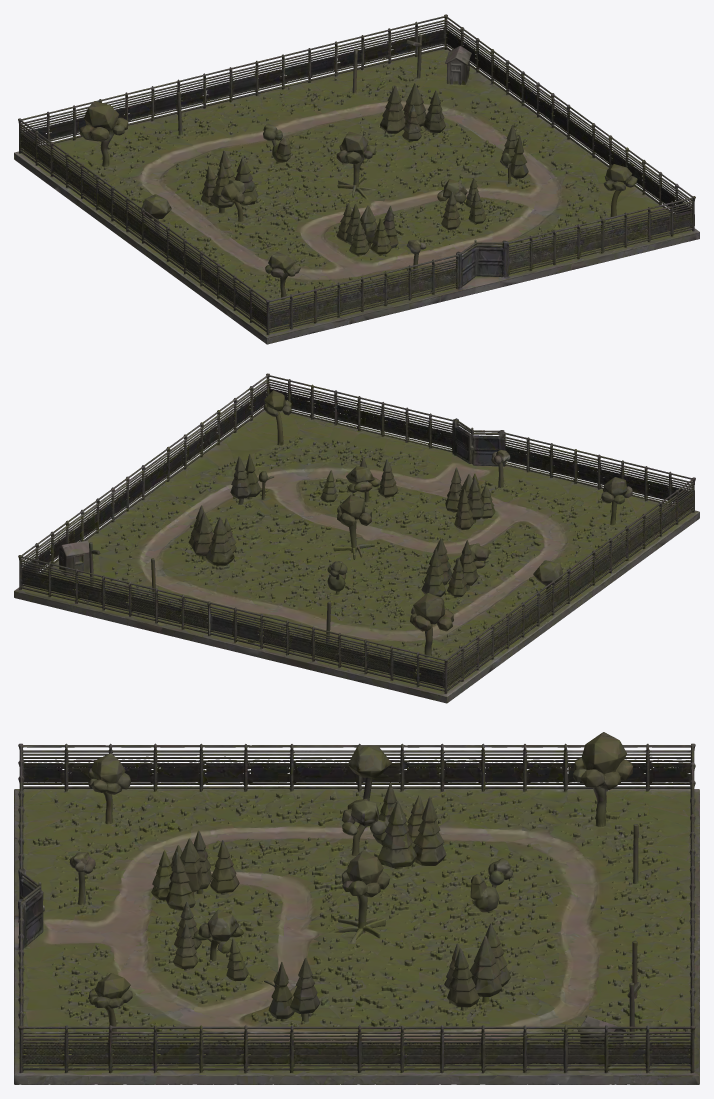
The model's file is Meshy_AI_Fenced_Low_Poly_Natur_0926153143_texture (1).glb.
3 renders of one model, top to bottom at view 1: azimuth 30°, elevation 25°; view 2: azimuth 150°, elevation 25°; view 3: azimuth 270°, elevation 25°, orthographic. The views are drawn at different scales.
Size of the model in its own units: 1.9 by 0.2881 by 1.92.
1 material, 1 textured.
